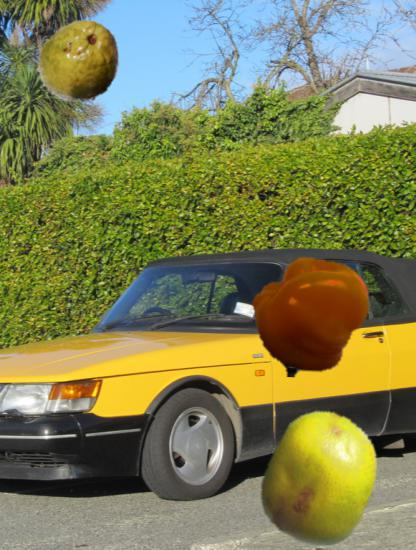Guava: (36, 19, 124, 107)
Pepper: (249, 255, 372, 378)
Pomelo: (253, 411, 390, 548)
